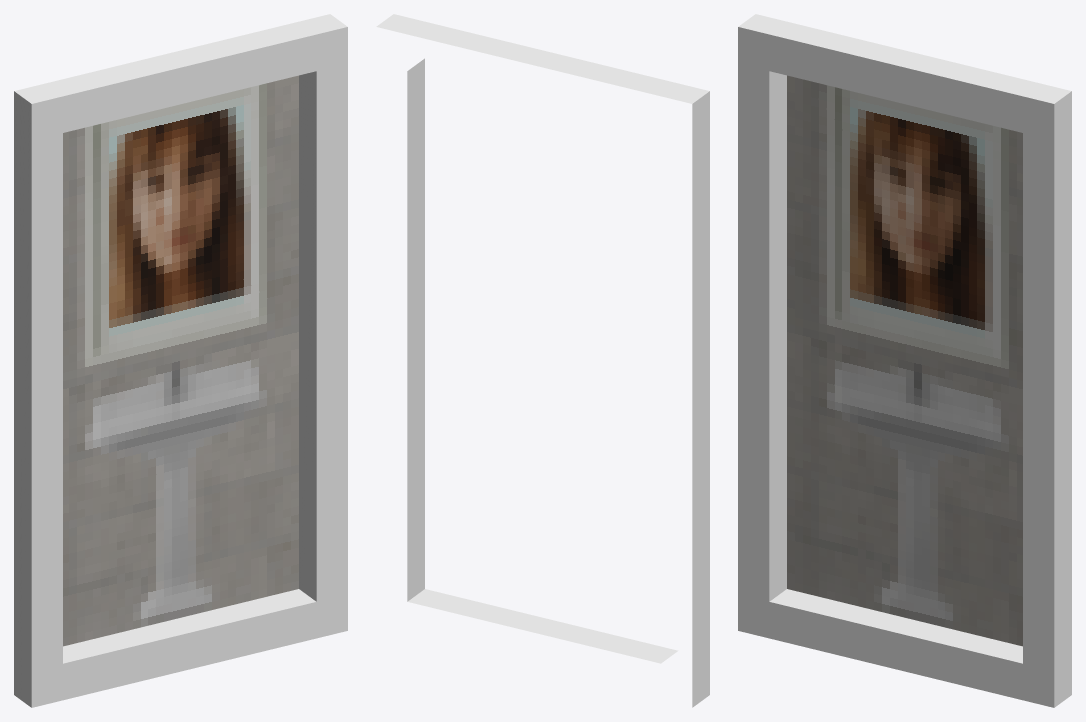
File: Room18Sink3.glb
3 views of the same model, side by side, from view 1: azimuth 30°, elevation 25°; view 2: azimuth 150°, elevation 25°; view 3: azimuth 330°, elevation 25° (orthographic).
Visible parts, largest first — view 1: Frame.006, CanvasBottom, CanvasTop; view 2: Frame.006; view 3: Frame.006, CanvasBottom, CanvasTop.
Part boxes in pixels (box(x1,y1,x2,y2)): Frame.006: box(14, 14, 347, 707); CanvasBottom: box(63, 323, 298, 646); CanvasTop: box(63, 75, 298, 380); Frame.006: box(376, 14, 709, 707); Frame.006: box(738, 14, 1071, 707); CanvasBottom: box(787, 323, 1022, 646); CanvasTop: box(787, 75, 1022, 380).
Bounding box in the file's own units: 1.25 × 2.28 × 0.1203.
Materials: 3 (2 with a texture image).
